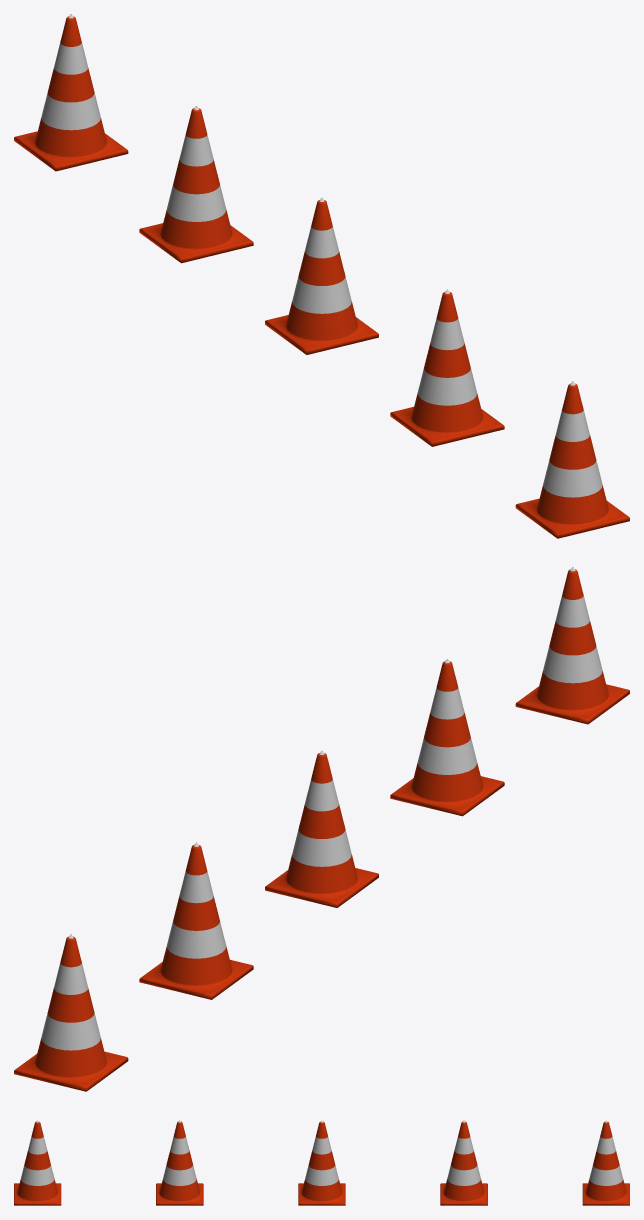
Rendered from ConeParkir.obj.
3 renders of one model, top to bottom at view 1: azimuth 30°, elevation 25°; view 2: azimuth 150°, elevation 25°; view 3: azimuth 270°, elevation 25°, orthographic. The views are drawn at different scales.
Parts seen in each view (by area): view 1: Cone.001; view 2: Cone.001; view 3: Cone.001.
Part boxes in pixels (x1=…): Cone.001: x1=14, y1=14, x2=629, y2=538; Cone.001: x1=14, y1=567, x2=629, y2=1091; Cone.001: x1=14, y1=1120, x2=629, y2=1205.
Size of the model in its own units: 1.4 by 2.46 by 18.25.
